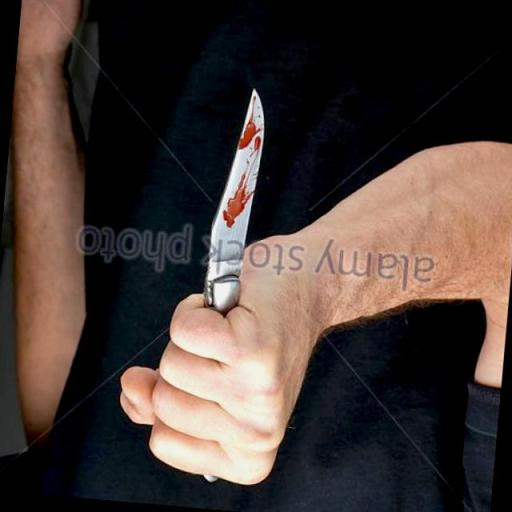knife: (146, 74, 300, 452)
